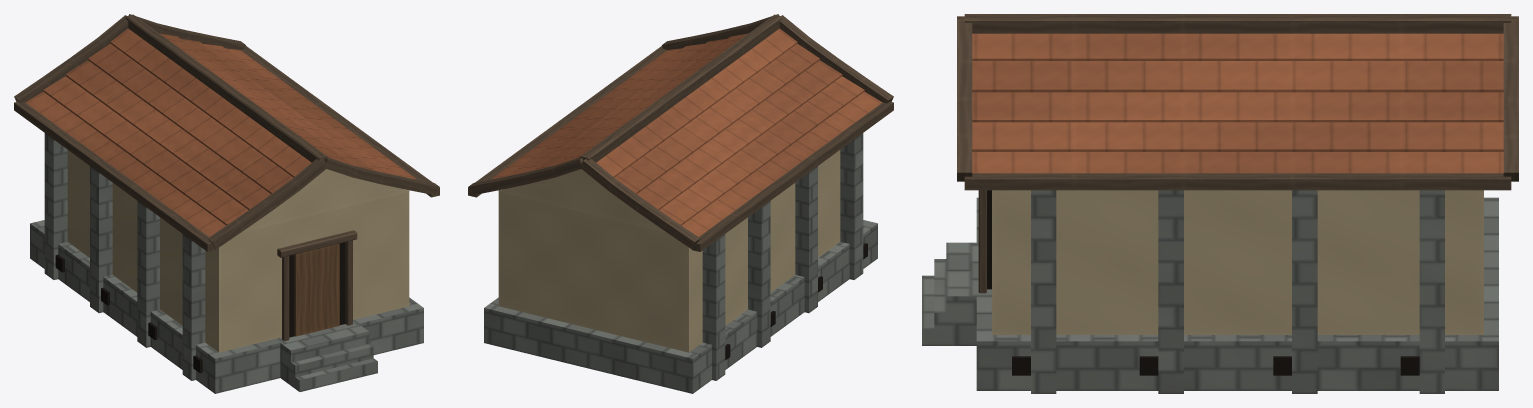
File: roman-granary.glb
3 renders of one model, left to right at view 1: azimuth 30°, elevation 25°; view 2: azimuth 150°, elevation 25°; view 3: azimuth 270°, elevation 25°, orthographic. The views are drawn at different scales.
Visible parts, largest first — view 1: roman-granary; view 2: roman-granary; view 3: roman-granary.
Part boxes in pixels (x1,y1,x2,y2): roman-granary: [14, 14, 439, 393]; roman-granary: [468, 14, 893, 393]; roman-granary: [922, 14, 1518, 393].
Bounding box in the file's own units: 0.5453 × 0.4814 × 0.86.
1 material, 1 textured.
